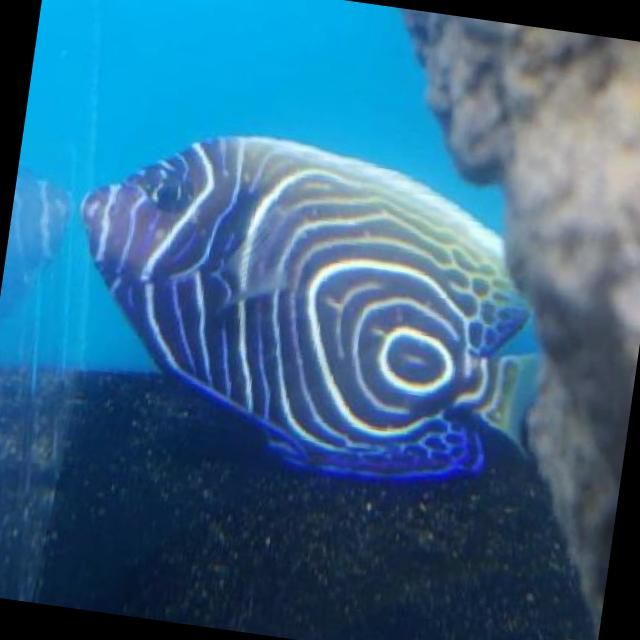AngelFish: (49, 113, 549, 499)
